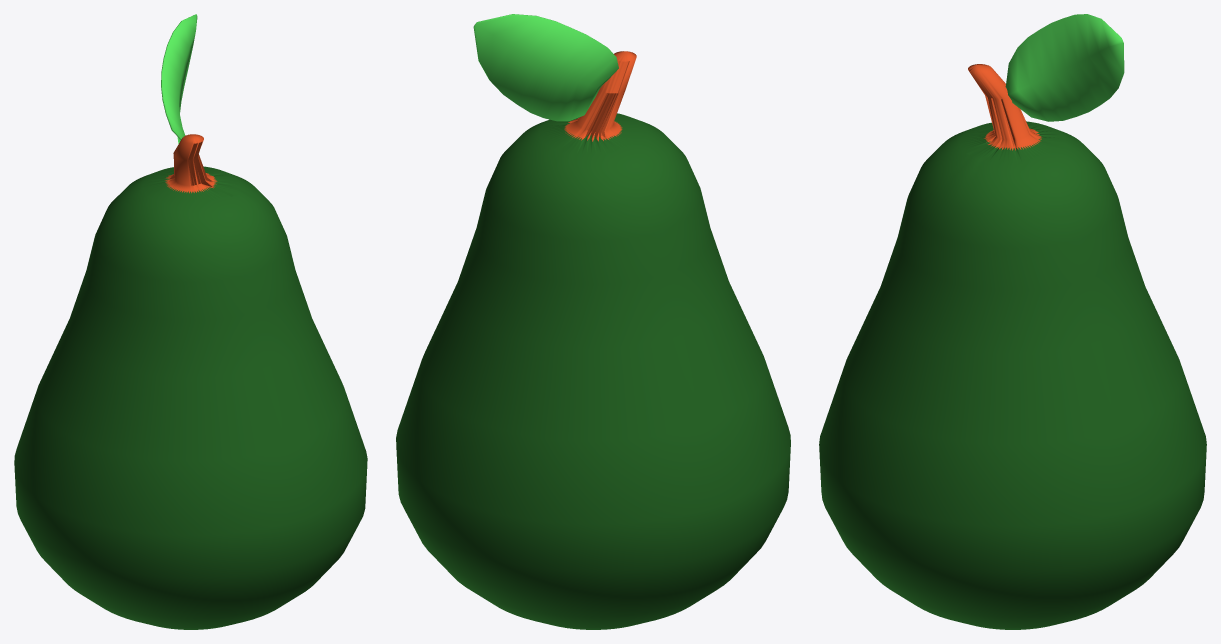
Rendered from Avokado.fbx.
3 renders of one model, left to right at view 1: azimuth 30°, elevation 25°; view 2: azimuth 150°, elevation 25°; view 3: azimuth 270°, elevation 25°, orthographic. The views are drawn at different scales.
Visible parts, largest first — view 1: Sphere; view 2: Sphere; view 3: Sphere.
Part boxes in pixels (bbox=[...]): Sphere: bbox=[14, 14, 367, 629]; Sphere: bbox=[396, 14, 790, 629]; Sphere: bbox=[819, 14, 1206, 629].
Bounding box in the file's own units: 183 × 317 × 183.
